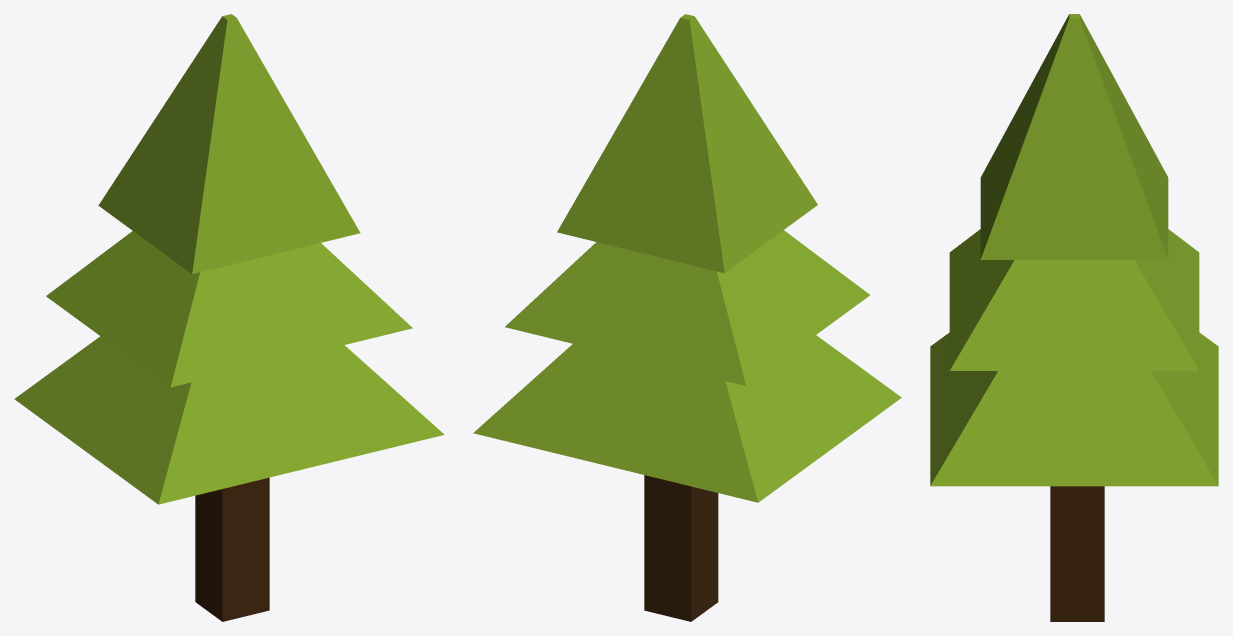
Rendered from tree9.FBX.
3 renders of one model, left to right at view 1: azimuth 30°, elevation 25°; view 2: azimuth 150°, elevation 25°; view 3: azimuth 270°, elevation 25°, orthographic.
Visible parts, largest first — view 1: tree9; view 2: tree9; view 3: tree9.
Part boxes in pixels (left/top/right/bottom): tree9: left=14, top=14, right=444, bottom=621; tree9: left=473, top=14, right=901, bottom=621; tree9: left=930, top=14, right=1218, bottom=621.
Size of the model in its own units: 6.09 by 12.02 by 5.31.
